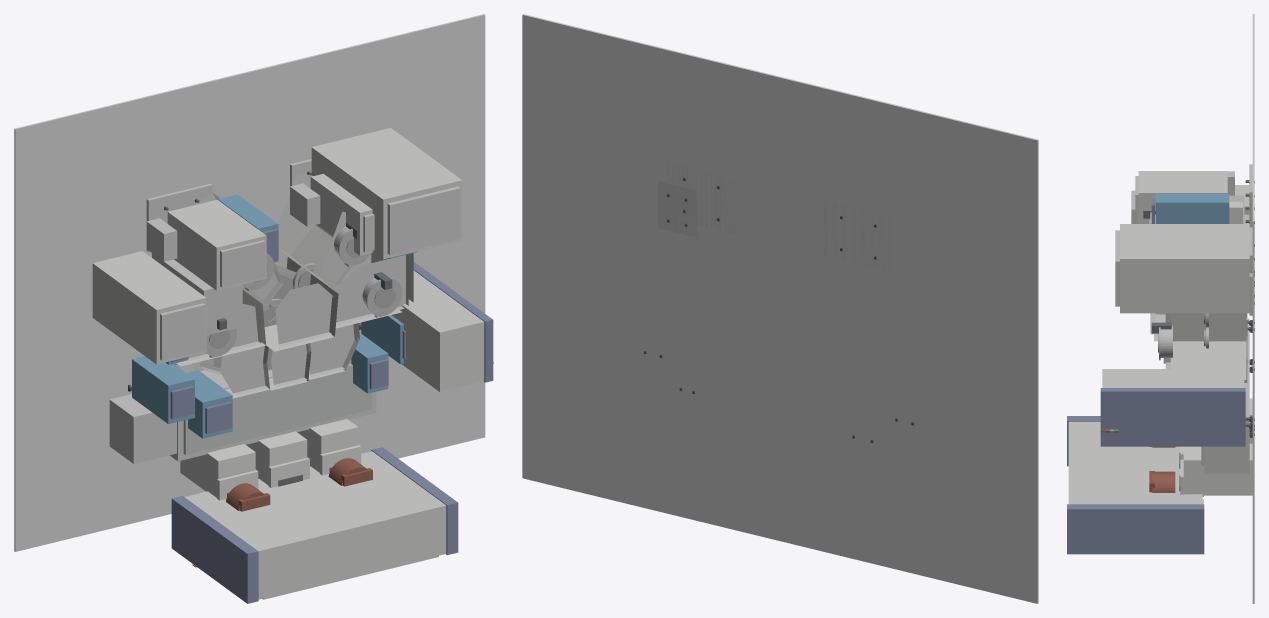
Rendered from tel-cvd.glb.
The picture shows the model from 3 angles, left to right: view 1: azimuth 30°, elevation 25°; view 2: azimuth 150°, elevation 25°; view 3: azimuth 270°, elevation 25°; orthographic projection. The views are drawn at different scales.
Visible parts, largest first — view 1: FLOOR, FRONT_MAIN, UTILITY_REAR, UTILITY_LEFT, OPERATOR_MAIN, LOWER_TRANSFER_TOP, FRONT_BLUE_L, COPY_TOP_LEFT_MAIN, UTILITY_REAR_TOP, LLM1_BODY, TM103_TOP, BLUE_LF (+33 smaller); view 2: FLOOR, PM2_SIDE_PLINTH, COPY_TOP_RIGHT_PLINTH, COPY_TOP_LEFT_PLINTH; view 3: UTILITY_REAR, OPERATOR_BLUE_STRIP, FRONT_MAIN, FRONT_BLUE_R, RIGHT_IF_BODY, OPERATOR_MAIN, COPY_TOP_LEFT_MAIN, COPY_TOP_LEFT_BLUE_SIDE, LP3_PEDESTAL, LOWER_TRANSFER_BODY, FLOOR, FOUP3_BODY (+4 smaller).
Part boxes in pixels (bbox=[...]): FLOOR: bbox=[14, 14, 485, 551]; FRONT_MAIN: bbox=[185, 451, 446, 599]; UTILITY_REAR: bbox=[311, 128, 462, 259]; UTILITY_LEFT: bbox=[92, 251, 206, 364]; OPERATOR_MAIN: bbox=[392, 270, 484, 391]; LOWER_TRANSFER_TOP: bbox=[183, 364, 371, 454]; FRONT_BLUE_L: bbox=[171, 496, 258, 603]; COPY_TOP_LEFT_MAIN: bbox=[167, 199, 266, 290]; UTILITY_REAR_TOP: bbox=[387, 186, 460, 255]; LLM1_BODY: bbox=[109, 394, 176, 463]; TM103_TOP: bbox=[275, 283, 335, 346]; BLUE_LF: bbox=[132, 356, 194, 424]; FLOOR: bbox=[522, 14, 1038, 603]; PM2_SIDE_PLINTH: bbox=[658, 181, 696, 237]; COPY_TOP_RIGHT_PLINTH: bbox=[666, 161, 736, 234]; COPY_TOP_LEFT_PLINTH: bbox=[823, 200, 893, 272]; UTILITY_REAR: bbox=[1120, 224, 1249, 313]; OPERATOR_BLUE_STRIP: bbox=[1100, 388, 1245, 446]; FRONT_MAIN: bbox=[1068, 421, 1202, 504]; FRONT_BLUE_R: bbox=[1067, 504, 1204, 554]; RIGHT_IF_BODY: bbox=[1171, 313, 1246, 379]; OPERATOR_MAIN: bbox=[1102, 369, 1244, 387]; COPY_TOP_LEFT_MAIN: bbox=[1138, 171, 1227, 223]; COPY_TOP_LEFT_BLUE_SIDE: bbox=[1155, 194, 1229, 223]; LP3_PEDESTAL: bbox=[1183, 443, 1252, 495]; LOWER_TRANSFER_BODY: bbox=[1204, 331, 1249, 474]; FLOOR: bbox=[1252, 14, 1254, 603]; FOUP3_BODY: bbox=[1152, 471, 1175, 492].
Bounding box in the file's own units: 12.8 × 11.34 × 4.9.
